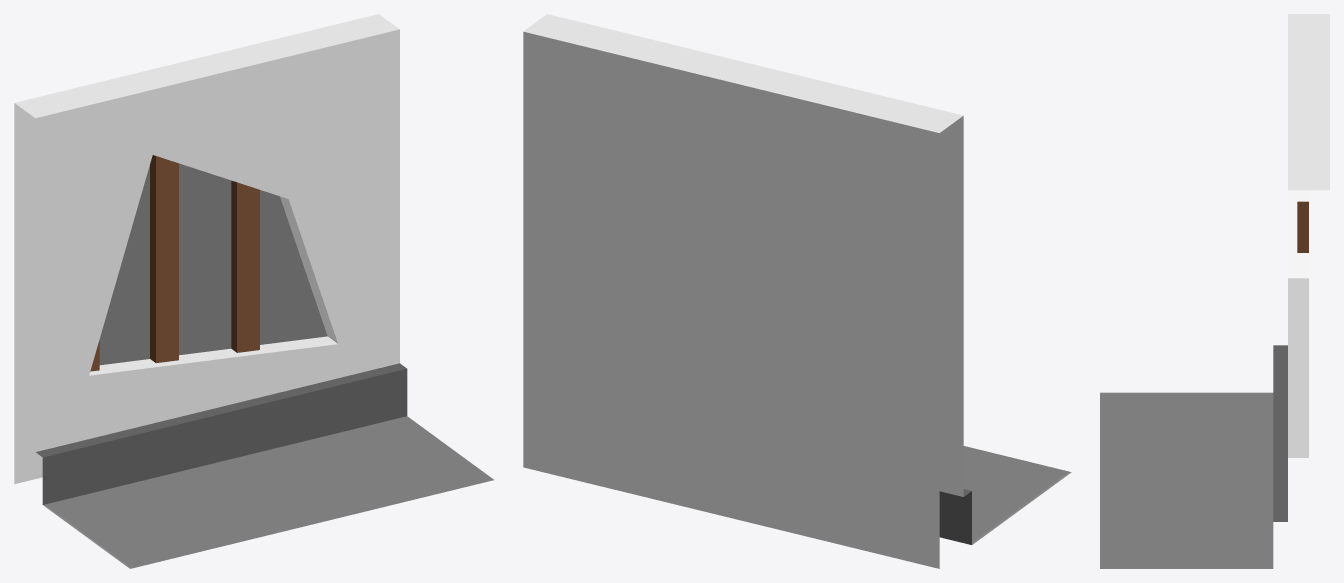
The model's file is E_Wall_Straight_Cracked_2.fbx.
3 views of the same model, side by side, from view 1: azimuth 30°, elevation 25°; view 2: azimuth 150°, elevation 25°; view 3: azimuth 270°, elevation 25° (orthographic). The views are drawn at different scales.
Visible parts, largest first — view 1: E_Wall_Straight_Cracked_2; view 2: E_Wall_Straight_Cracked_2; view 3: E_Wall_Straight_Cracked_2.
Boxes of the visible parts, x1,y1,x2,y2 form: E_Wall_Straight_Cracked_2: [14, 14, 493, 568]; E_Wall_Straight_Cracked_2: [523, 14, 1071, 568]; E_Wall_Straight_Cracked_2: [1100, 14, 1329, 568].
Bounding box in the file's own units: 200 × 200 × 110.
